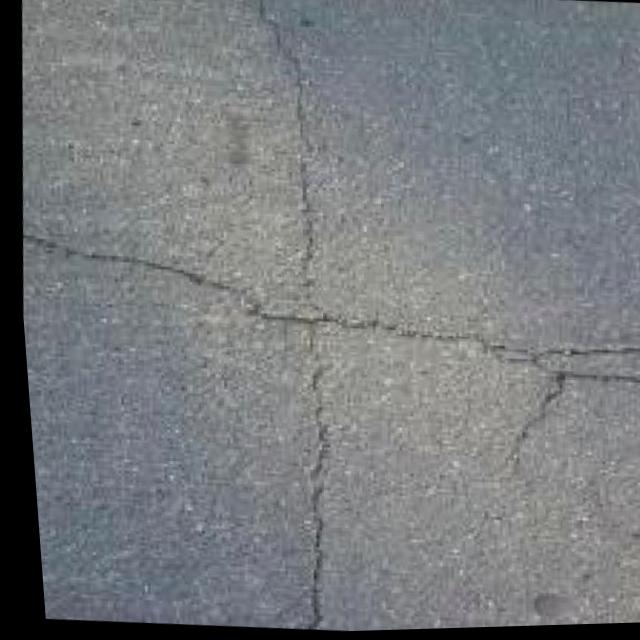Crack: (10, 149, 640, 424), (160, 0, 401, 636)
